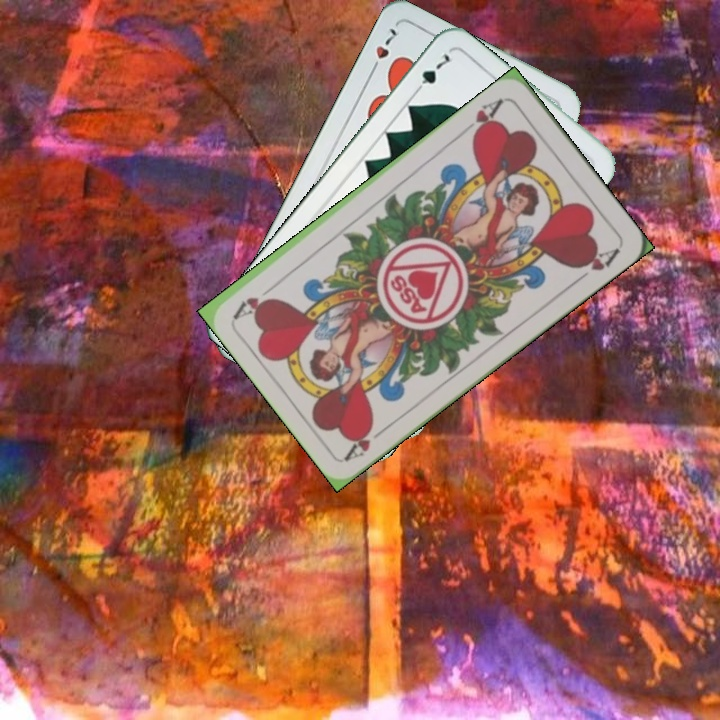G7: (410, 49, 453, 98)
H7: (365, 24, 399, 77)
HA: (457, 94, 506, 141), (341, 419, 392, 463)
